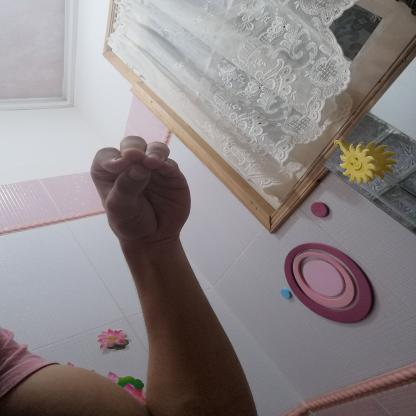HA: (66, 126, 214, 255)
